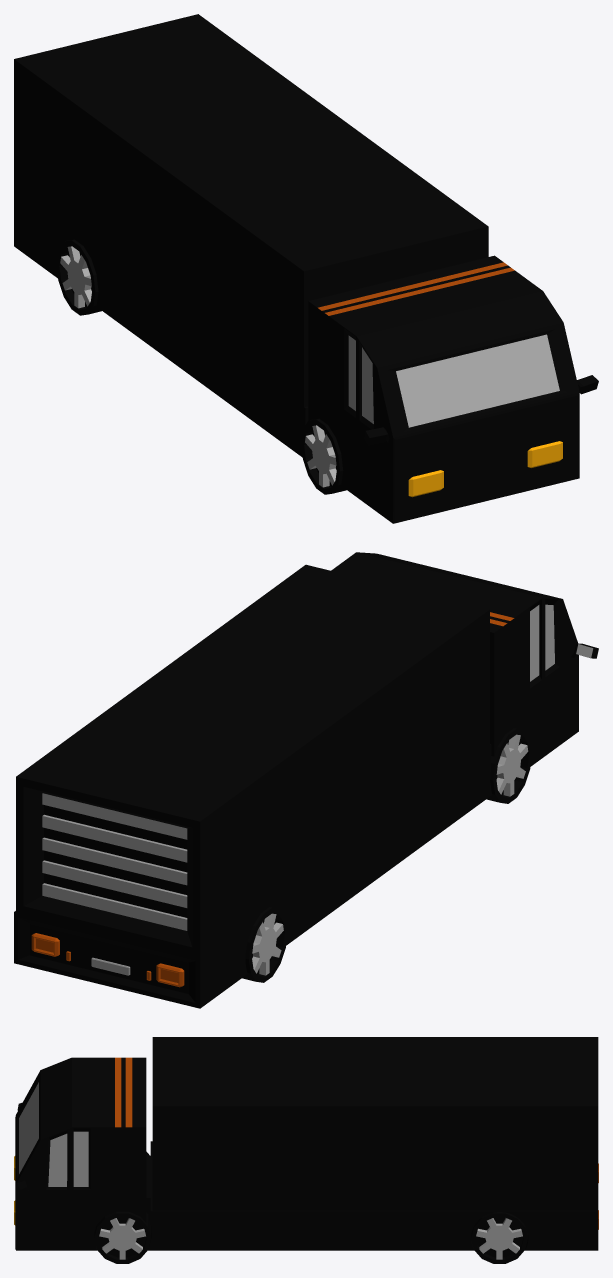
The model's file is br_wheel_10.glb.
3 renders of one model, top to bottom at view 1: azimuth 30°, elevation 25°; view 2: azimuth 150°, elevation 25°; view 3: azimuth 270°, elevation 25°, orthographic. The views are drawn at different scales.
Visible parts, largest first — view 1: BR WHEEL_BODY.027_0; view 2: BR WHEEL_BODY.027_0; view 3: BR WHEEL_BODY.027_0.
Boxes of the visible parts, x1,y1,x2,y2 form: BR WHEEL_BODY.027_0: (14,14,598,523); BR WHEEL_BODY.027_0: (14,552,598,1008); BR WHEEL_BODY.027_0: (14,1037,598,1263).
Bounding box in the file's own units: 0.3785 × 0.3223 × 1.09.
Materials: 1 (1 with a texture image).
